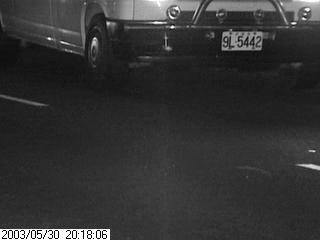plate: (220, 28, 262, 54)
